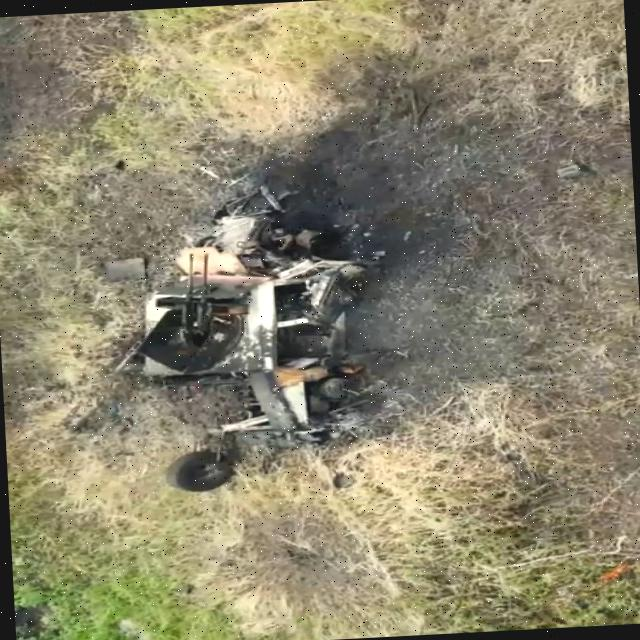Destroyed: (114, 197, 362, 487)
